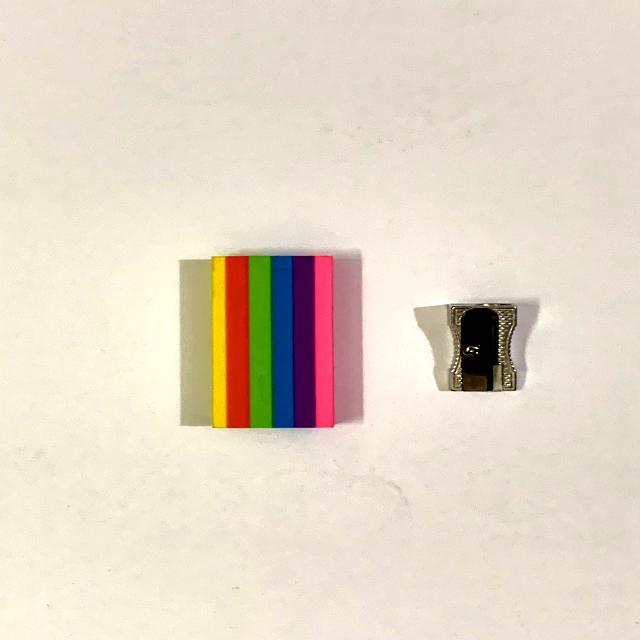Eraser: (182, 234, 375, 447)
Sharpner: (414, 289, 552, 405)
